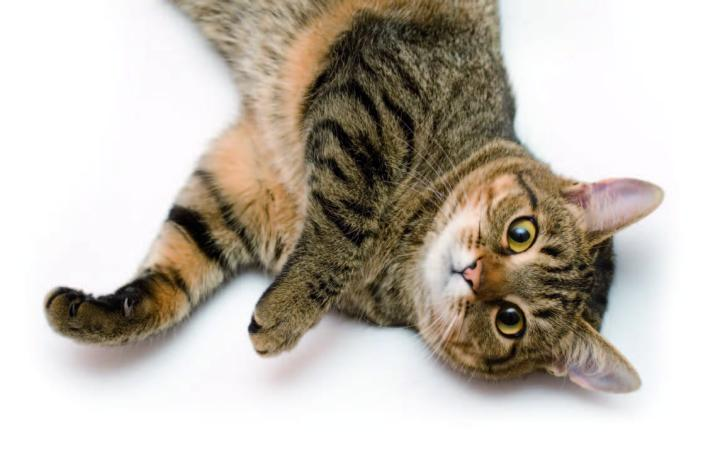Gato: (234, 50, 680, 398)
